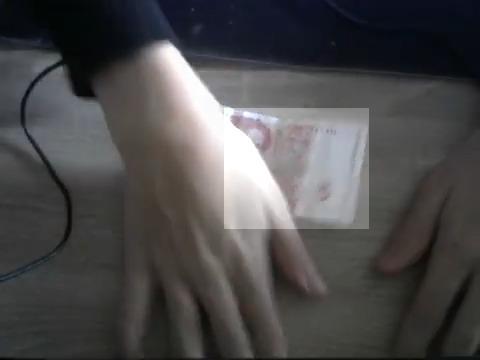5leva: (224, 108, 369, 229)
